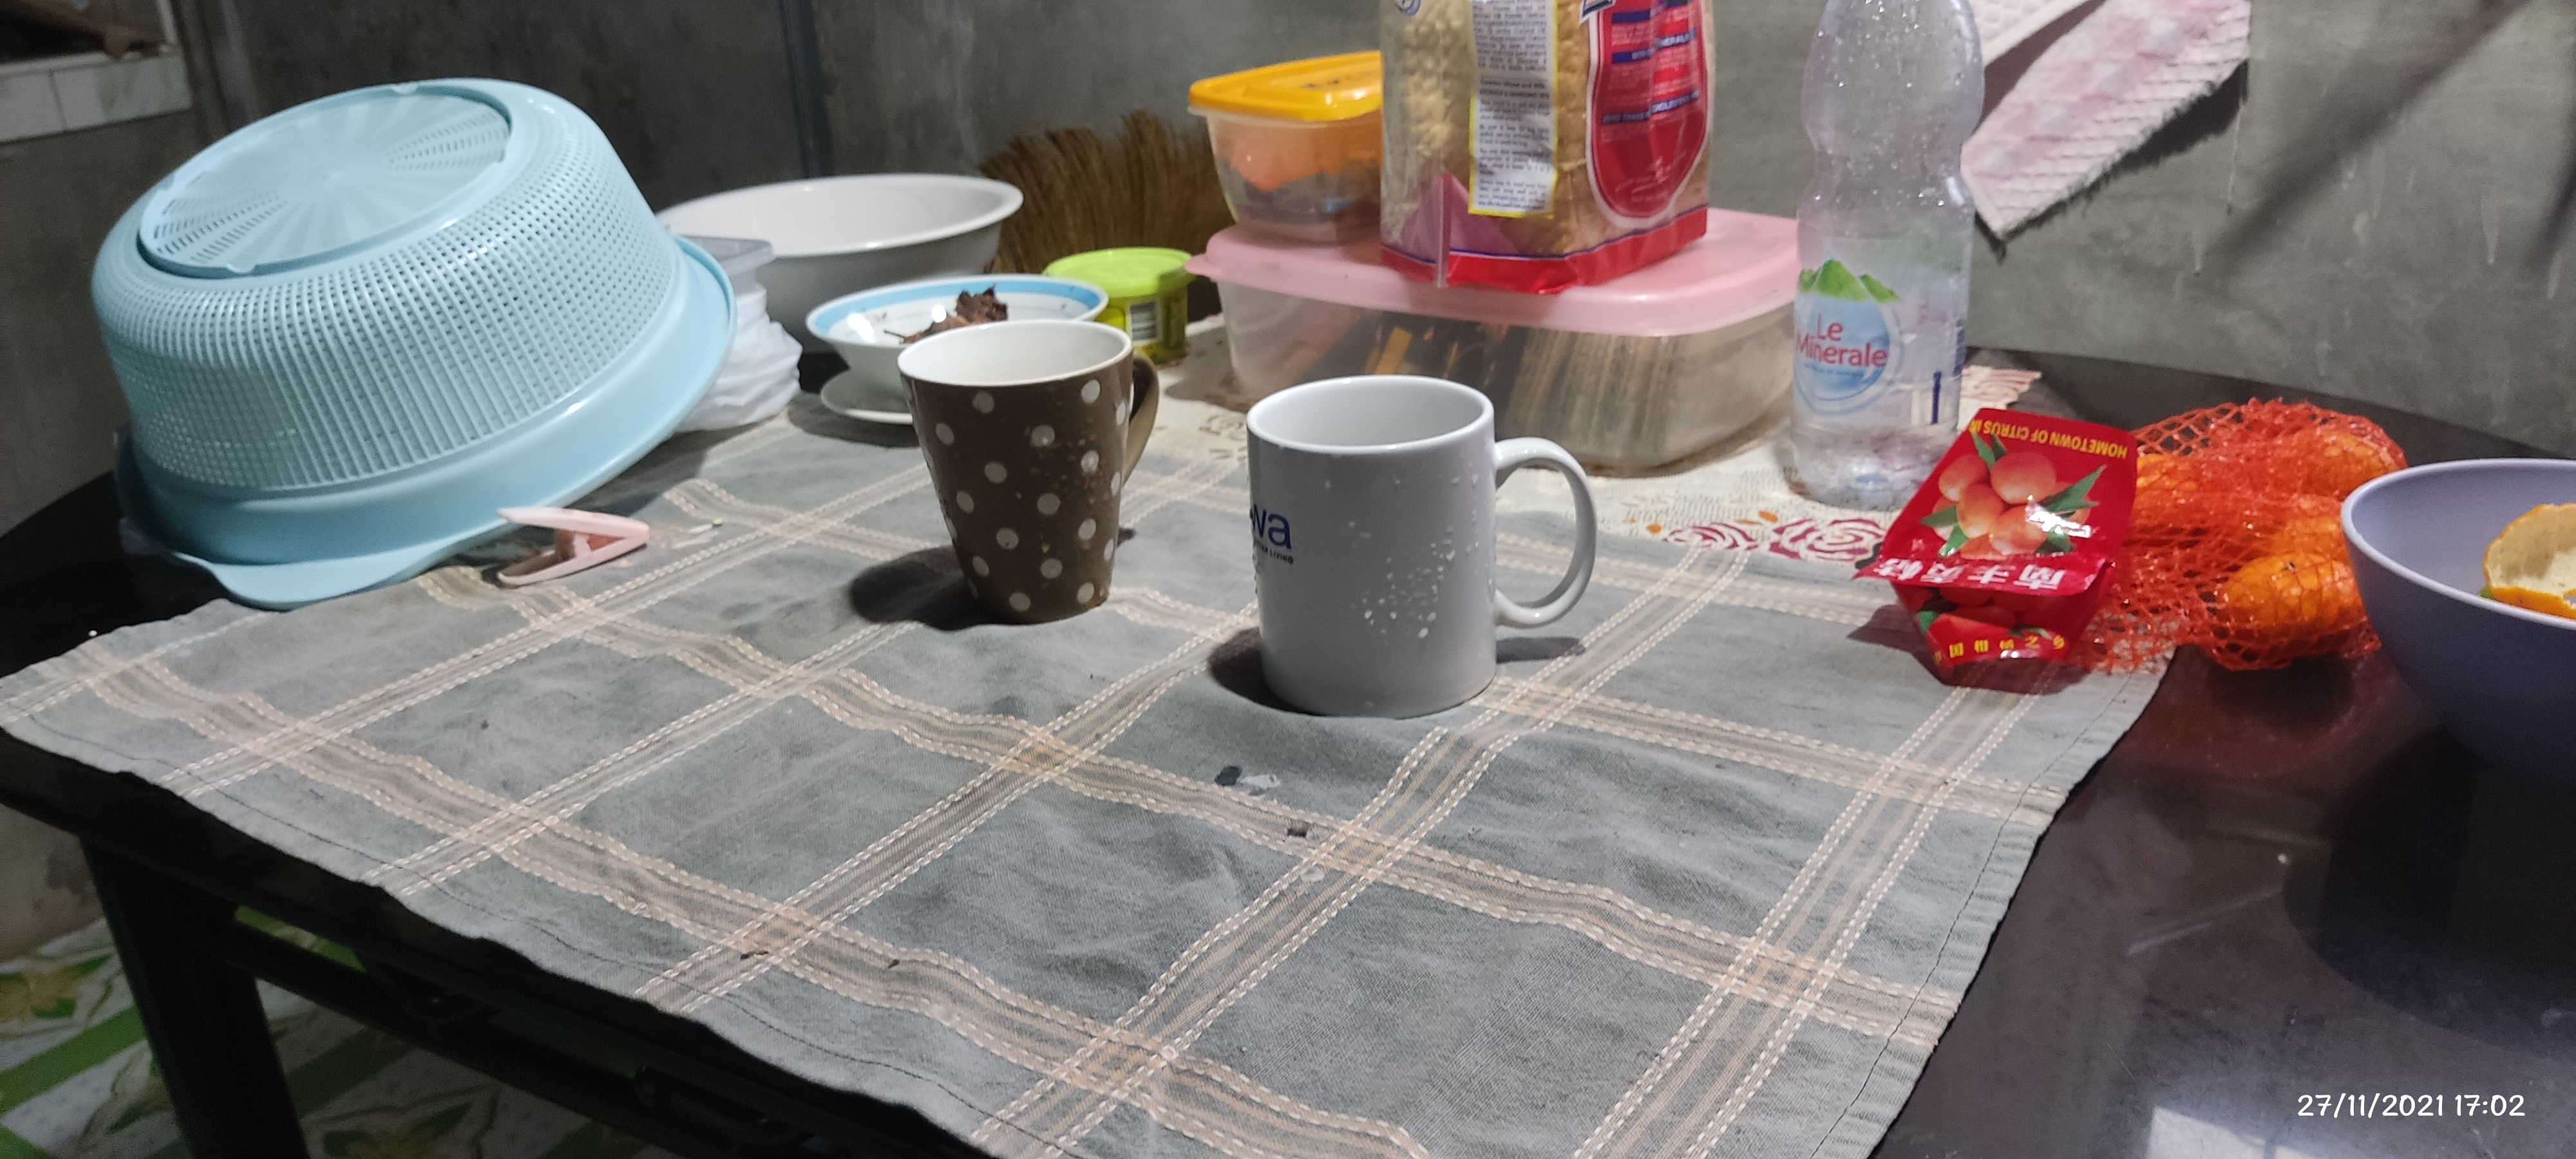mug: (1249, 371, 1597, 714), (899, 322, 1157, 619)
